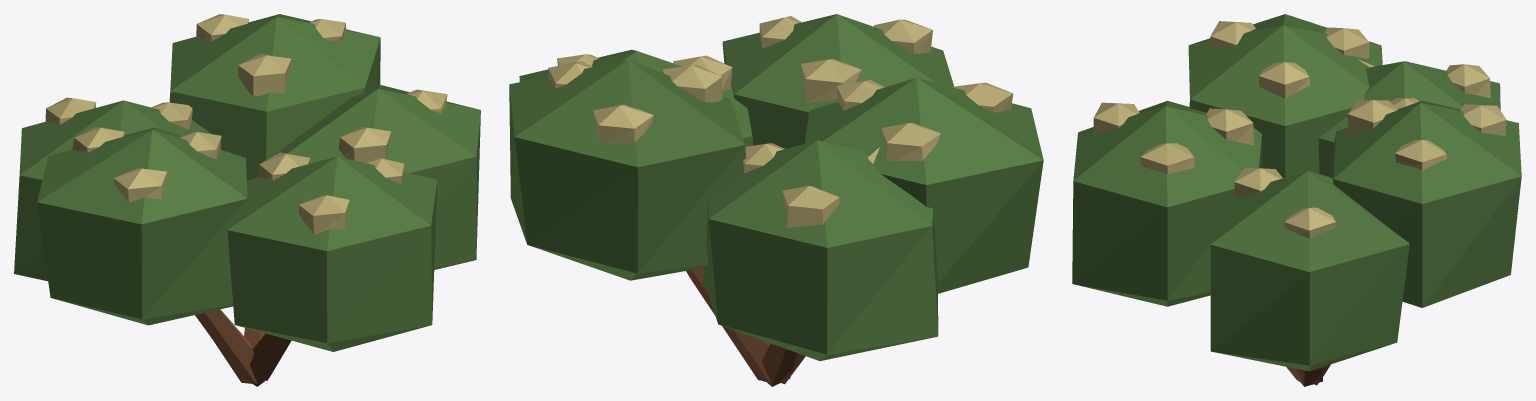
File: Plant_Common_FloweringShrub_001_LOD1.glb
3 renders of one model, left to right at view 1: azimuth 30°, elevation 25°; view 2: azimuth 150°, elevation 25°; view 3: azimuth 270°, elevation 25°, orthographic. The views are drawn at different scales.
Parts seen in each view (by area): view 1: Plant_Common_FloweringShrub_001_LOD1; view 2: Plant_Common_FloweringShrub_001_LOD1; view 3: Plant_Common_FloweringShrub_001_LOD1.
Part boxes in pixels (x1,y1,x2,y2): Plant_Common_FloweringShrub_001_LOD1: (14, 14, 480, 386); Plant_Common_FloweringShrub_001_LOD1: (509, 14, 1043, 386); Plant_Common_FloweringShrub_001_LOD1: (1072, 14, 1521, 386).
Bounding box in the file's own units: 2.1 × 1.35 × 1.73.
